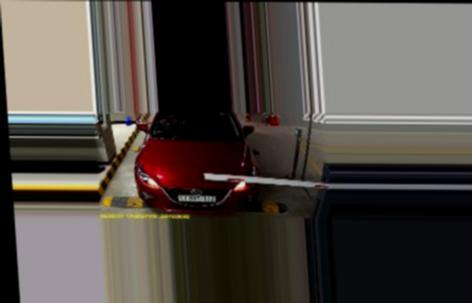License_Plate: (177, 193, 218, 204)
